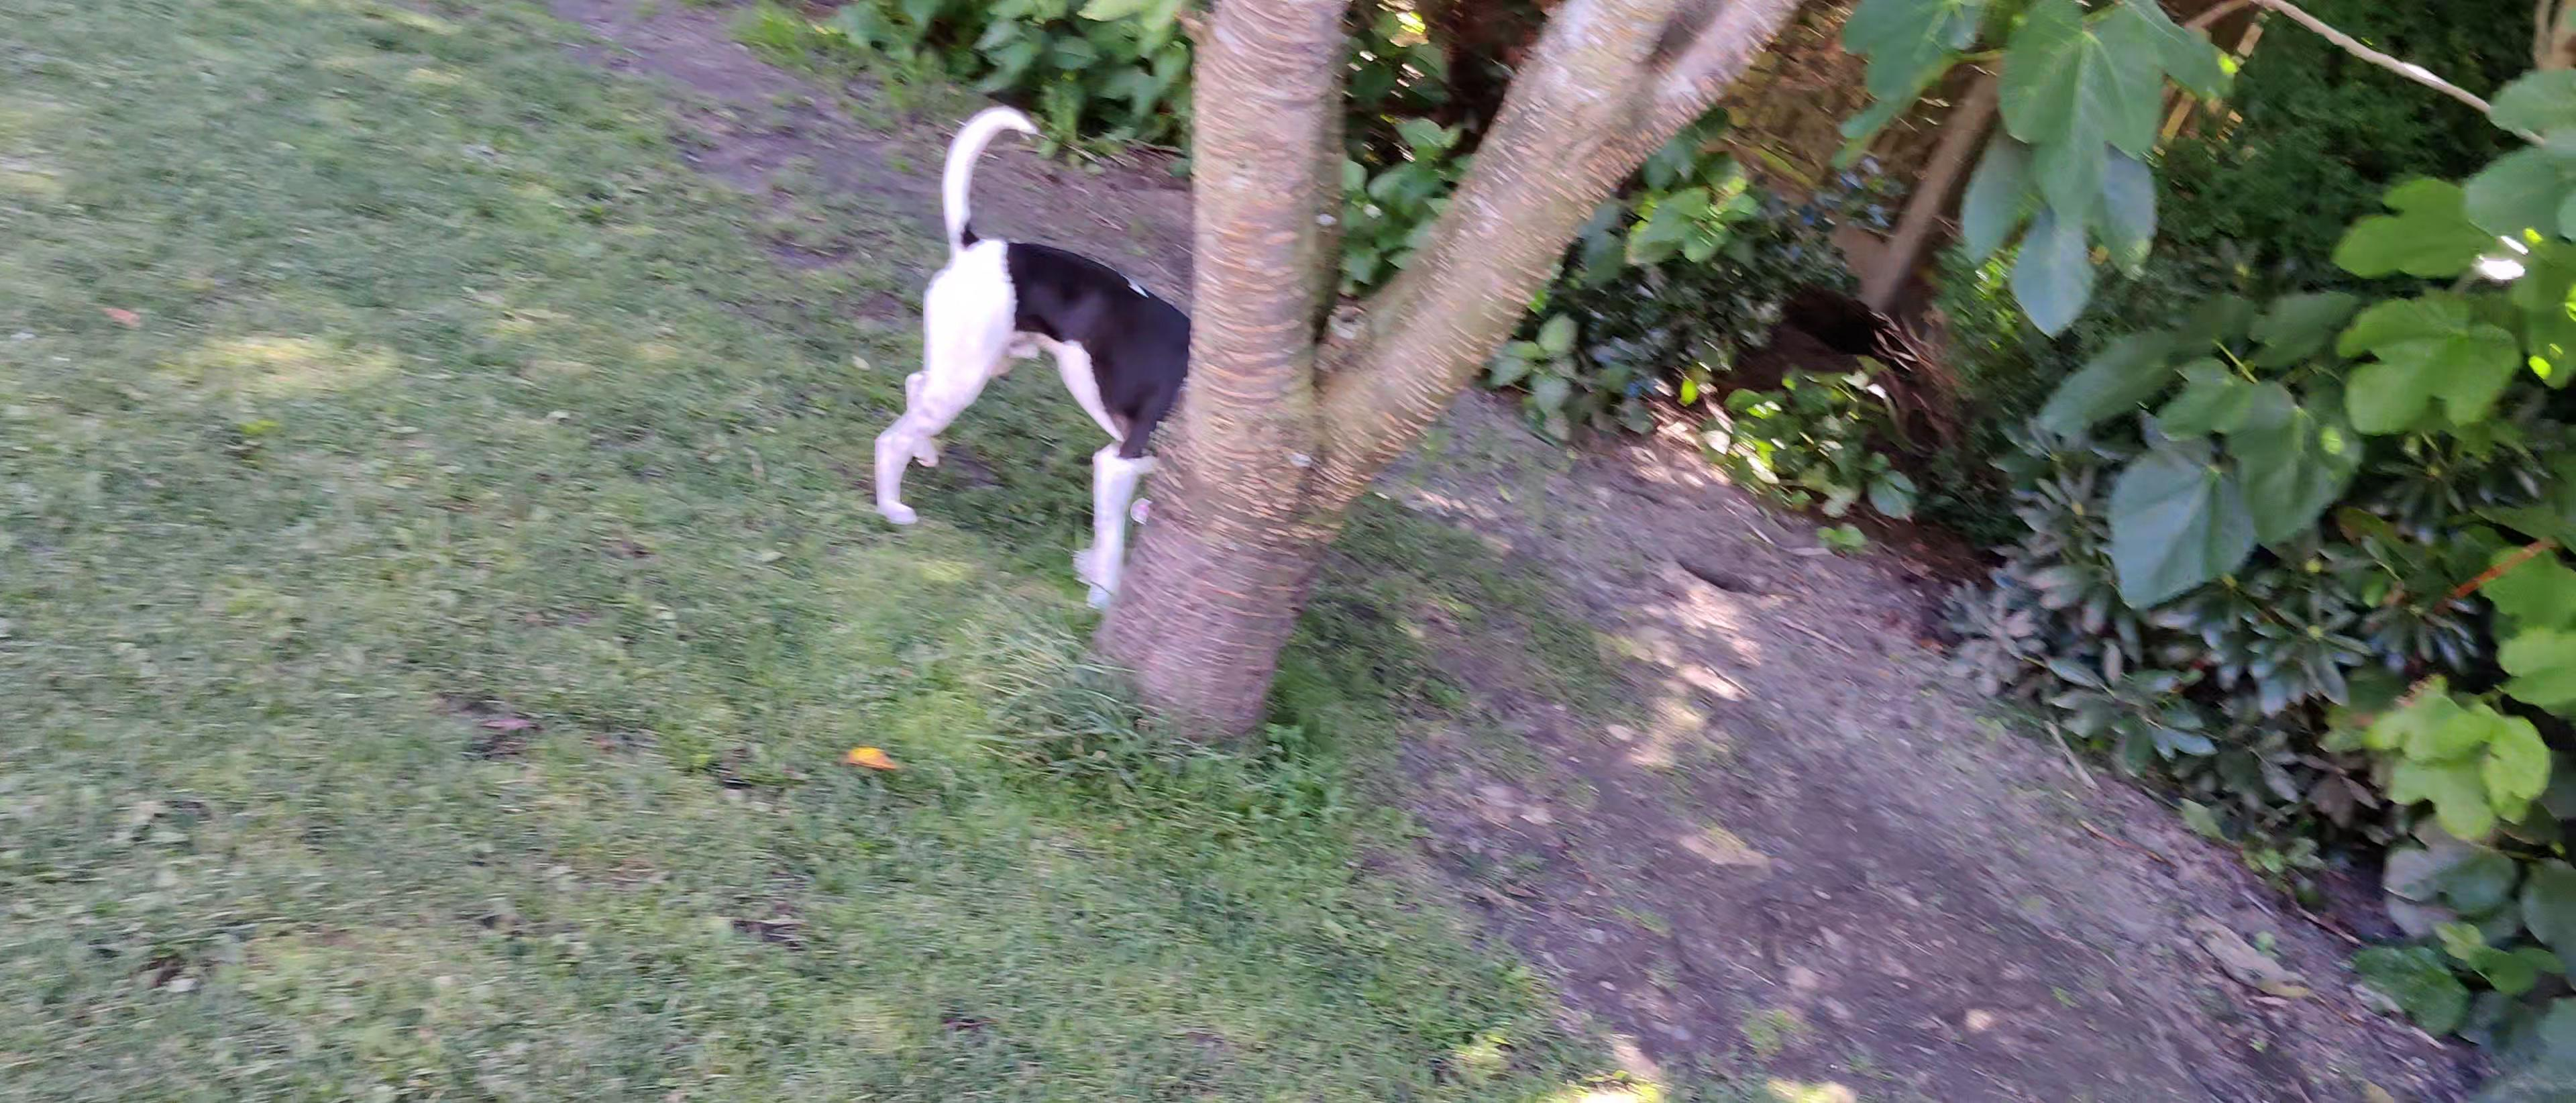Dog: (851, 87, 1285, 639)
